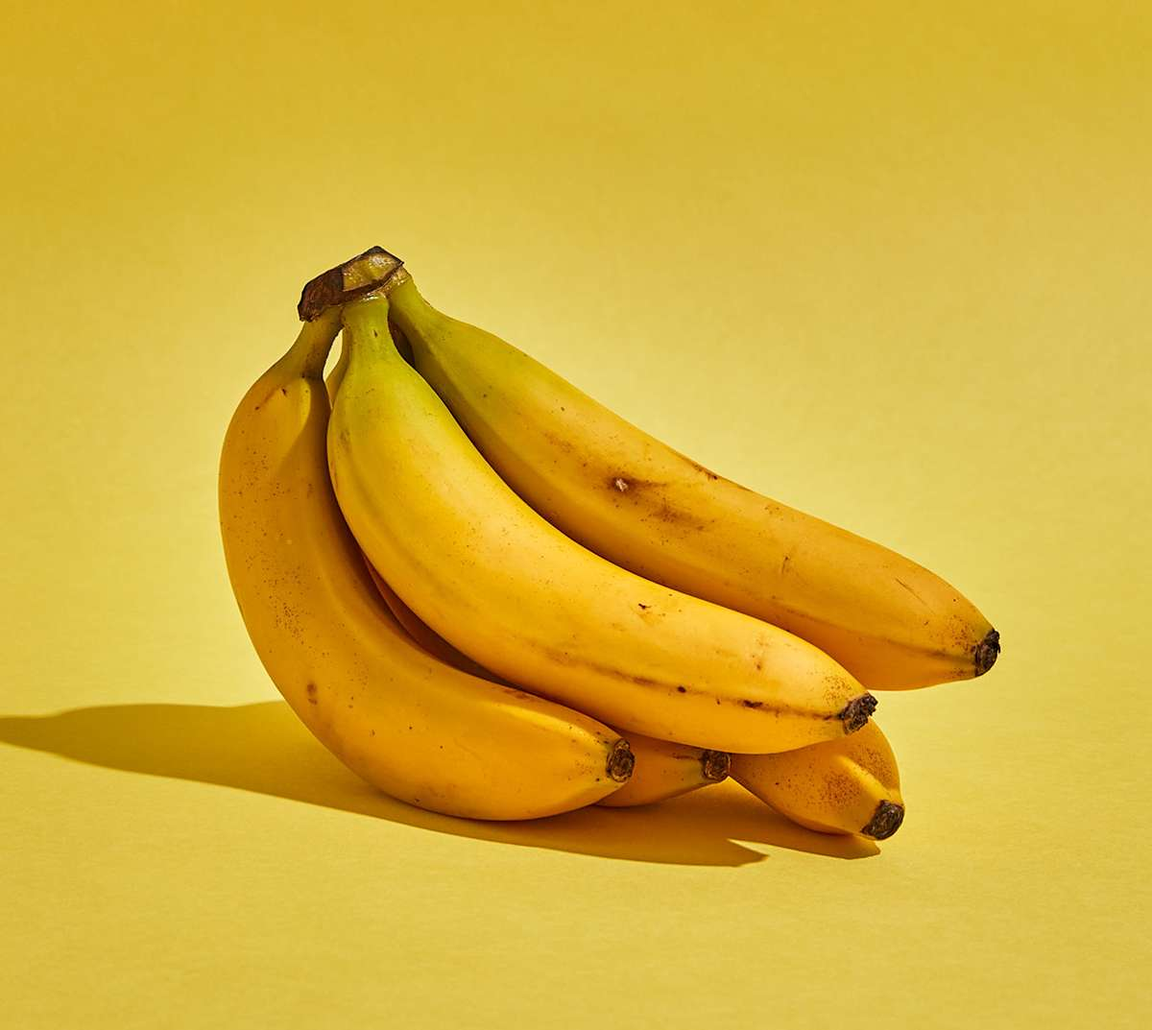banana: (196, 245, 1020, 875)
